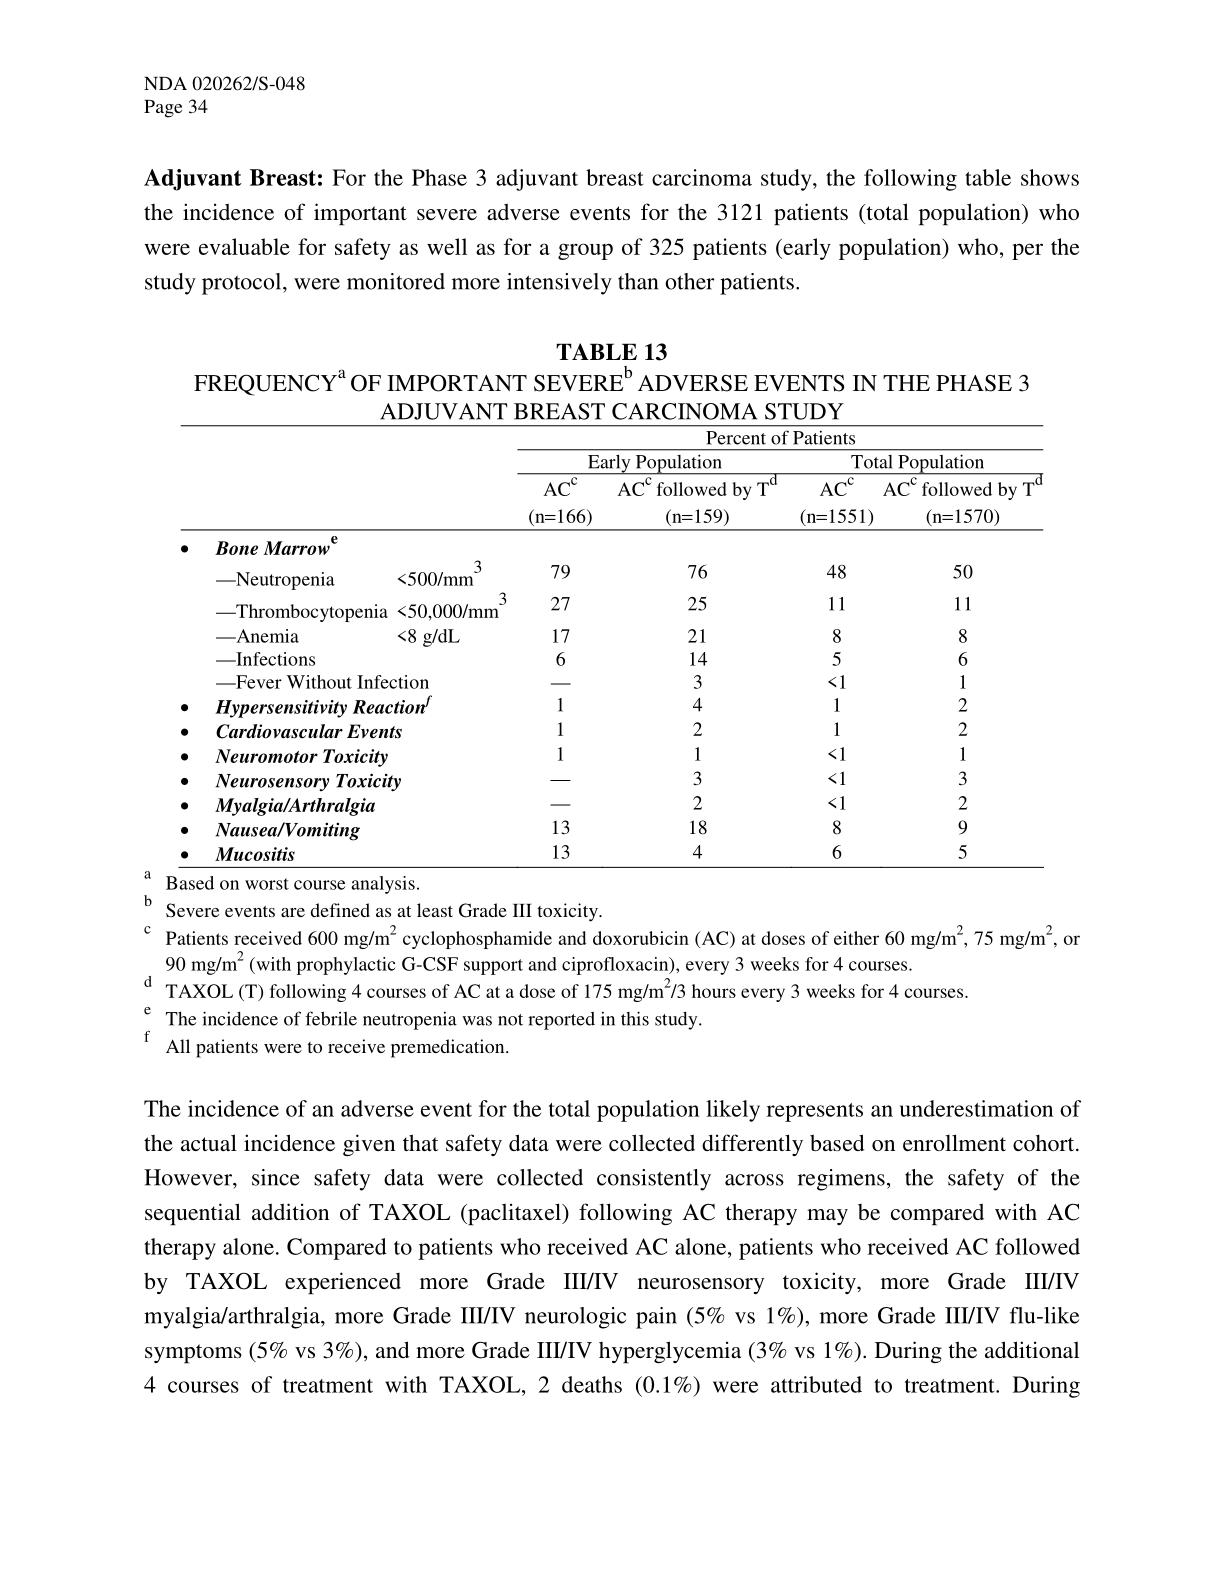partial_lined_merged_cells: (177, 424, 1045, 870)
